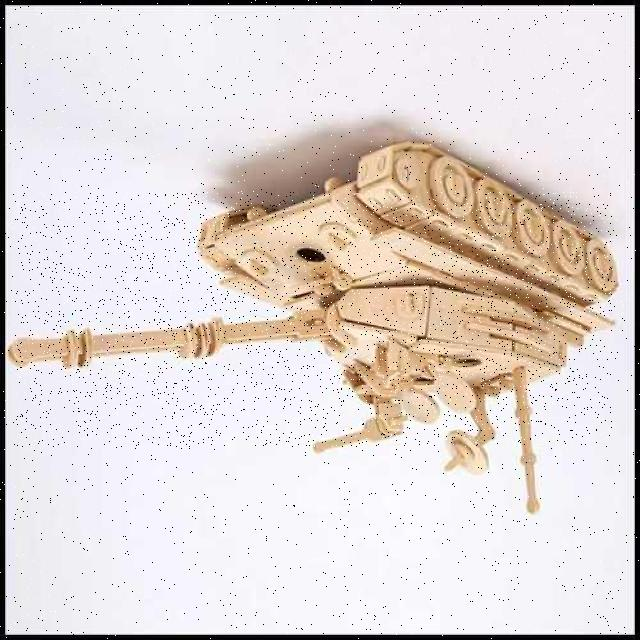MIL_MBT: (16, 192, 612, 447)
